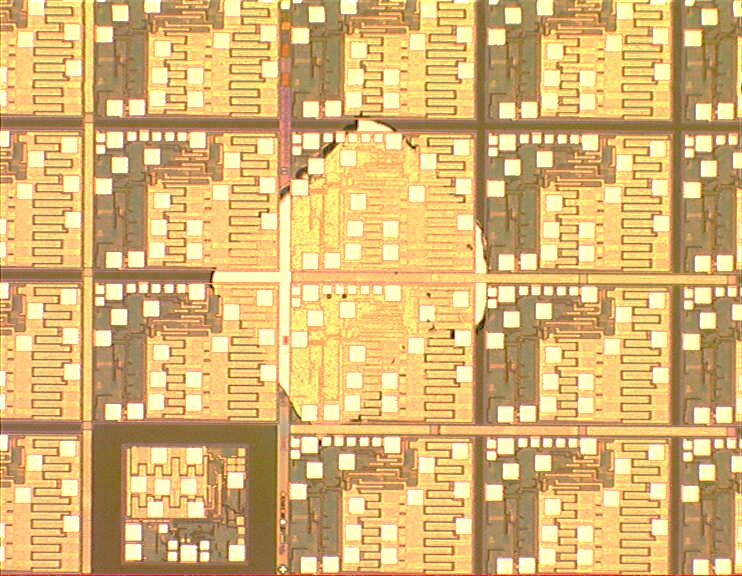BLOCK ETCH: (204, 110, 496, 449)
